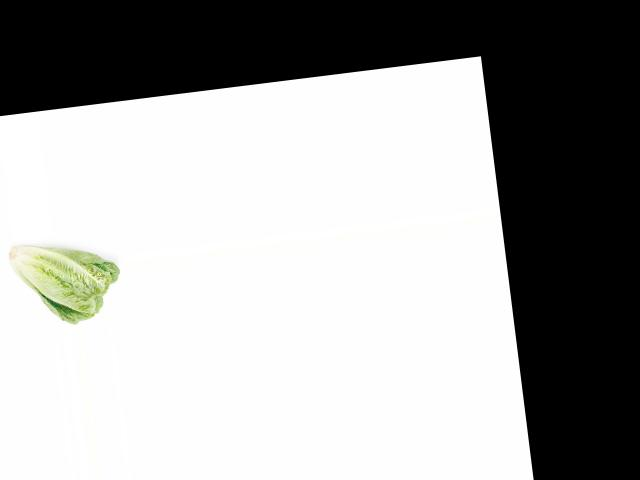lettuce: (5, 231, 124, 330)
